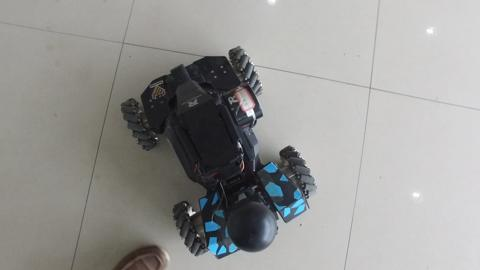chariot: (107, 32, 320, 253)
